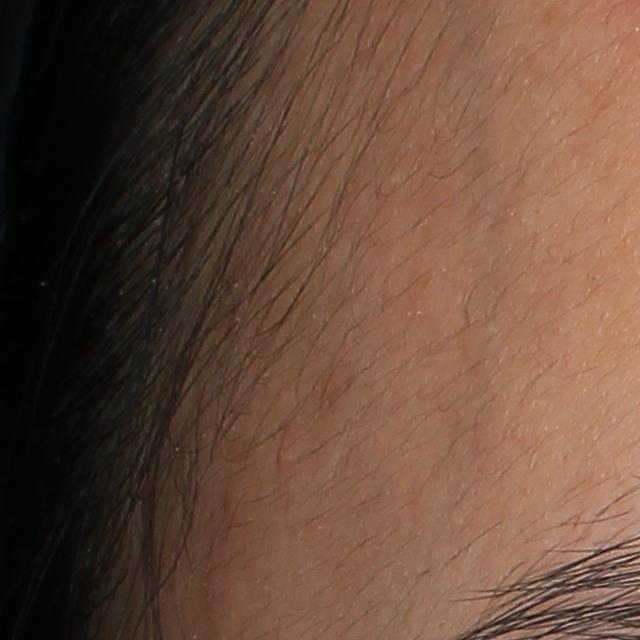papule: (273, 442, 293, 467)
